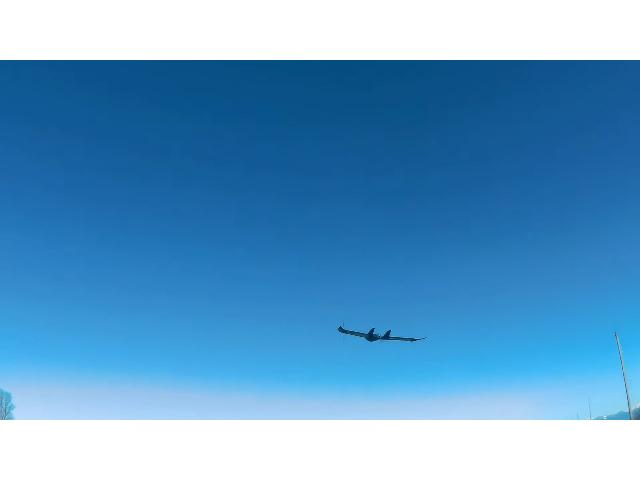Anti-Drone: (320, 310, 440, 361)
